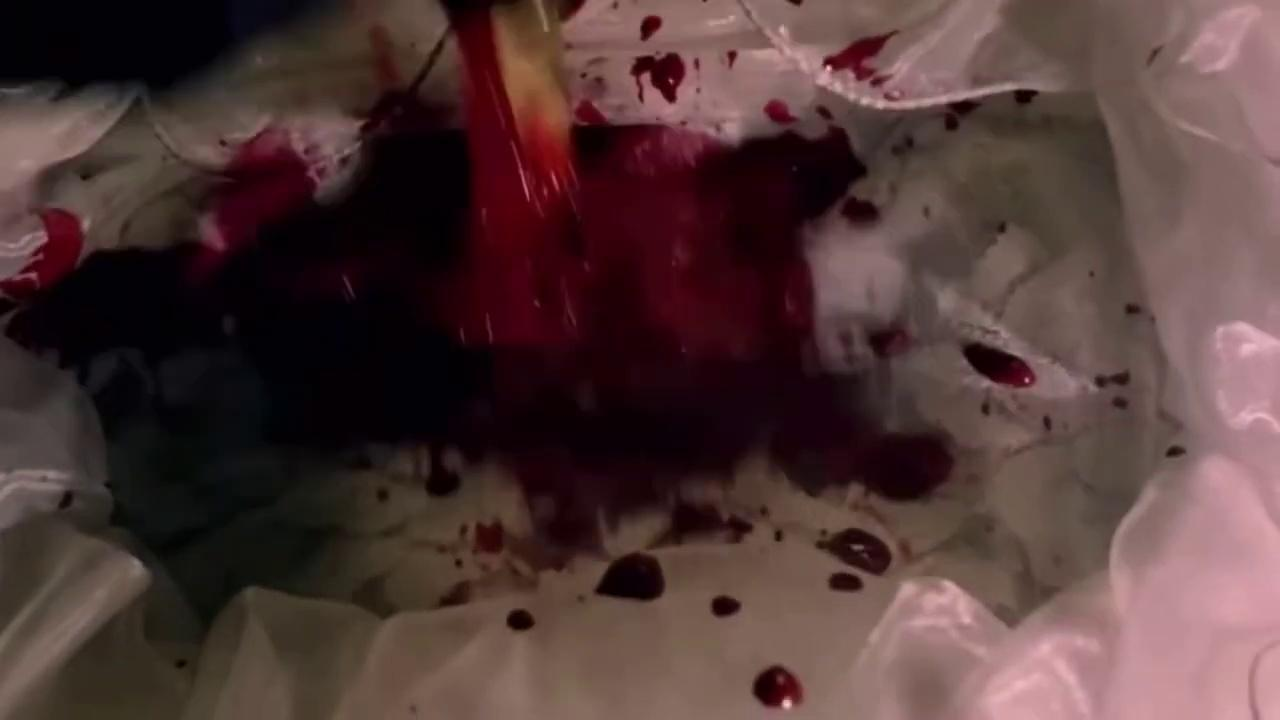Fire: (0, 0, 1181, 714)
